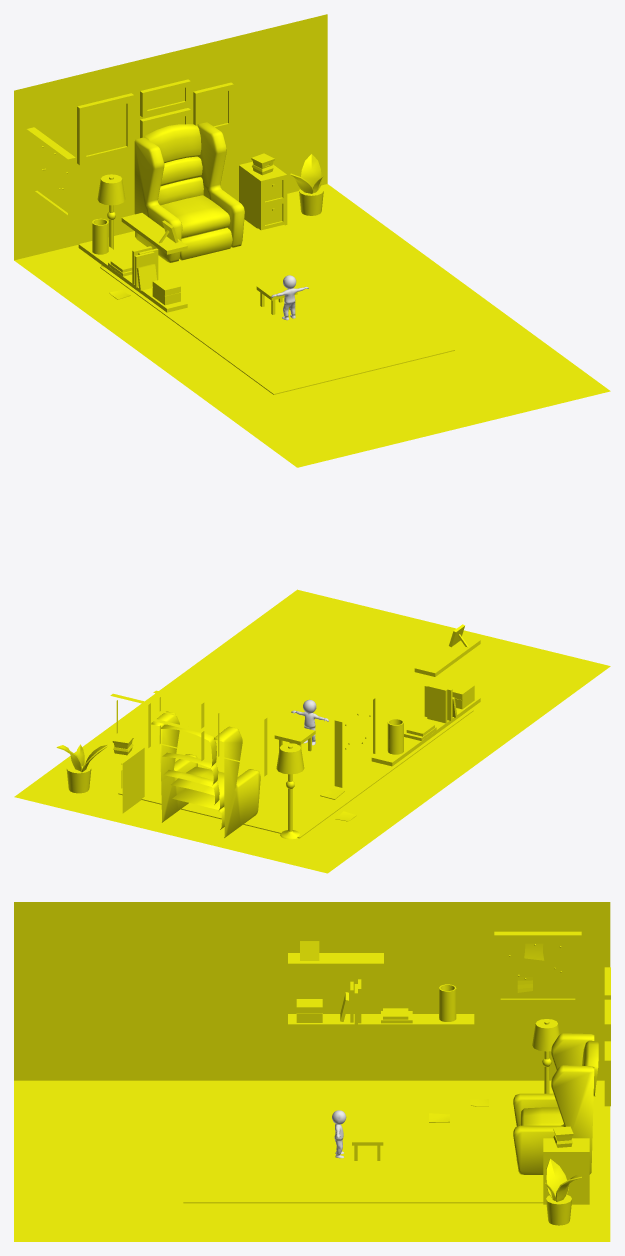
3 renders of one model, top to bottom at view 1: azimuth 30°, elevation 25°; view 2: azimuth 150°, elevation 25°; view 3: azimuth 270°, elevation 25°, orthographic. The views are drawn at different scales.
Parts seen in each view (by area): view 1: Plane, Cube.018, Cube.003, Cube.004, Cube.001, Cube.007, Cube.006, Cylinder, Plane.007, Cube.012, Cube.009, Cylinder.002 (+3 smaller); view 2: Plane, Cube.018, Cube.003, Cube.001, Plane.007, Cylinder.002, Cube.012, Cylinder, Cube.009, Cube.015, Cube, Cylinder.009 (+2 smaller); view 3: Plane, Cube.018, Cube.003, Plane.007, Cube.001, Cube.009, Cylinder, Cube.012, Cylinder.002, Cube, Cylinder.009, Cube.011 (+1 smaller).
Boxes of the visible parts, x1,y1,x2,y2 form: Plane: (14, 14, 610, 467); Cube.018: (100, 225, 454, 394); Cube.003: (134, 122, 244, 262); Cube.004: (77, 93, 134, 165); Cube.001: (239, 153, 287, 230); Cube.007: (193, 82, 233, 130); Cube.006: (140, 79, 190, 117); Cylinder: (290, 154, 323, 215); Plane.007: (27, 127, 75, 224); Cube.012: (121, 213, 187, 254); Cube.009: (78, 241, 187, 312); Cylinder.002: (97, 174, 125, 268); Plane: (14, 589, 610, 873); Cube.018: (118, 666, 473, 838); Cube.003: (151, 711, 260, 837); Cube.001: (96, 734, 144, 813); Plane.007: (334, 690, 383, 787); Cylinder.002: (276, 743, 304, 839); Cube.012: (414, 635, 480, 676); Cylinder: (56, 744, 108, 793); Cube.009: (371, 696, 480, 766); Cube.015: (427, 685, 447, 723); Cube: (274, 724, 315, 751); Cylinder.009: (387, 718, 403, 754); Plane: (14, 902, 610, 1241); Cube.018: (183, 1109, 543, 1203); Cube.003: (513, 1033, 598, 1174); Plane.007: (494, 931, 581, 1004); Cube.001: (543, 1126, 589, 1204); Cube.009: (288, 1014, 474, 1028); Cylinder: (545, 1158, 581, 1225); Cube.012: (288, 953, 383, 967); Cylinder.002: (532, 1019, 559, 1093); Cube: (352, 1129, 383, 1160); Cylinder.009: (439, 984, 456, 1021); Cube.011: (296, 999, 322, 1022).
Size of the model in its own units: 7.69 by 3.96 by 11.98.
Materials: 2 (2 with a texture image).
